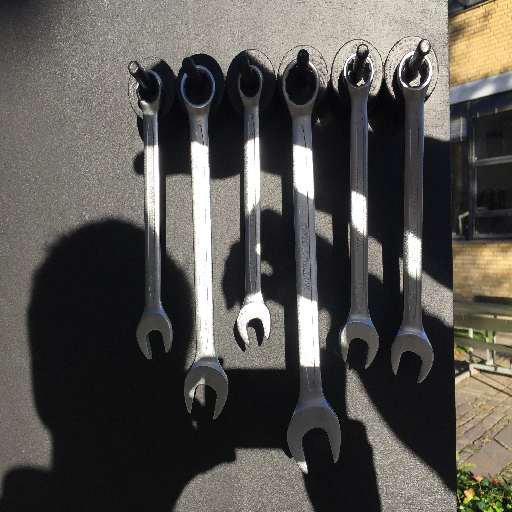bottom: (286, 404, 344, 473), (182, 361, 231, 420), (390, 326, 434, 385), (338, 314, 381, 370), (134, 309, 174, 361), (235, 301, 273, 348)
top: (280, 56, 322, 114), (394, 49, 433, 99), (180, 63, 217, 114), (341, 51, 376, 96), (234, 63, 266, 105), (134, 68, 165, 108)
